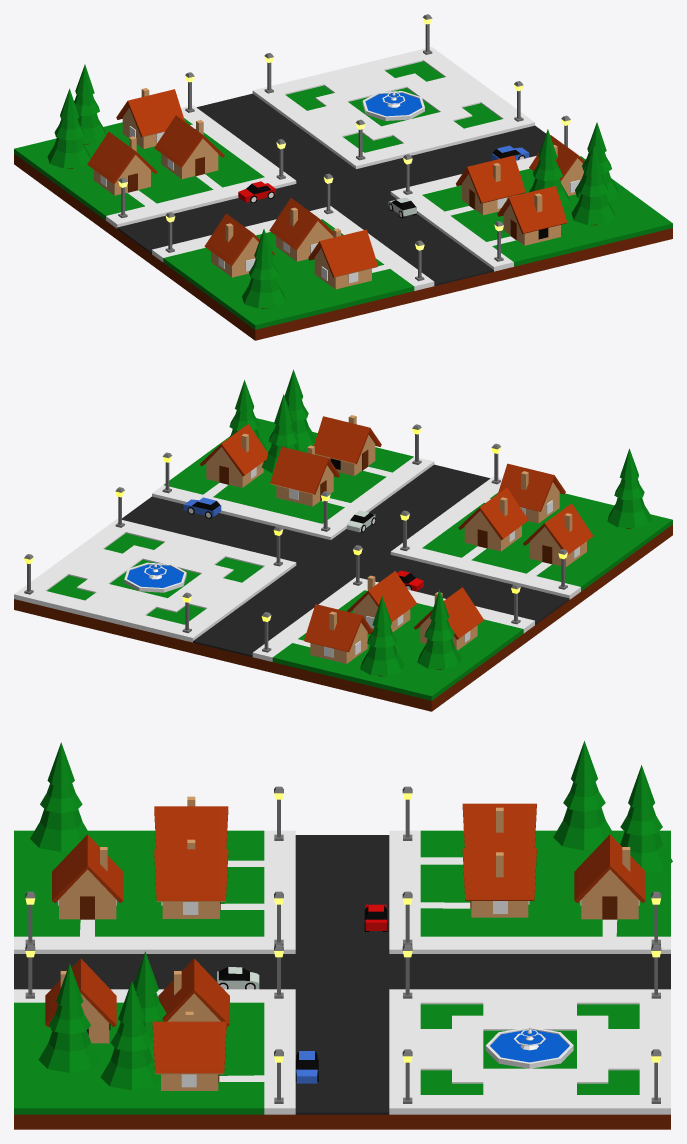
File: neighborhood_mockup_2_-_lowpoly.glb
3 renders of one model, top to bottom at view 1: azimuth 30°, elevation 25°; view 2: azimuth 150°, elevation 25°; view 3: azimuth 270°, elevation 25°, orthographic. The views are drawn at different scales.
Visible parts, largest first — view 1: Cube.006_3, Cube.010_9, Cube.002_4, Cube.008_6, Cube.001_2, Cube.007_7, Cube.012_11, Cube.009_8, Cube.011_10, Cylinder.002_14, Cylinder.004_16, Cylinder_12 (+6 smaller); view 2: Cube.006_3, Cube.001_2, Cube.012_11, Cube.002_4, Cube.009_8, Cube.003_5, Cube.011_10, Cube.010_9, Cube.008_6, Cylinder.002_14, Cylinder.001_13, Cylinder_12 (+6 smaller); view 3: Cube.006_3, Cube.003_5, Cube.009_8, Cube.008_6, Cube.012_11, Cube.010_9, Cylinder.004_16, Cylinder.005_17, Cylinder_12, Cylinder.002_14, Cube.007_7, Cube.011_10 (+8 smaller).
Part boxes in pixels (bbox=[...]): Cube.006_3: bbox=[14, 47, 672, 340]; Cube.010_9: bbox=[308, 228, 378, 289]; Cube.002_4: bbox=[497, 186, 567, 245]; Cube.008_6: bbox=[154, 115, 224, 179]; Cube.001_2: bbox=[456, 155, 525, 215]; Cube.007_7: bbox=[87, 132, 157, 195]; Cube.012_11: bbox=[116, 88, 184, 148]; Cube.009_8: bbox=[269, 198, 333, 261]; Cube.011_10: bbox=[204, 213, 274, 277]; Cylinder.002_14: bbox=[242, 229, 286, 308]; Cylinder.004_16: bbox=[571, 145, 615, 225]; Cylinder_12: bbox=[47, 88, 90, 168]; Cube.006_3: bbox=[14, 418, 672, 711]; Cube.001_2: bbox=[270, 445, 339, 506]; Cube.012_11: bbox=[304, 604, 372, 663]; Cube.002_4: bbox=[314, 415, 381, 475]; Cube.009_8: bbox=[458, 487, 528, 551]; Cube.003_5: bbox=[199, 424, 268, 487]; Cube.011_10: bbox=[523, 503, 593, 567]; Cube.010_9: bbox=[498, 463, 565, 523]; Cube.008_6: bbox=[346, 571, 416, 631]; Cylinder.002_14: bbox=[607, 448, 651, 528]; Cylinder.001_13: bbox=[360, 596, 404, 676]; Cylinder_12: bbox=[417, 589, 461, 669]; Cube.006_3: bbox=[14, 830, 670, 1129]; Cube.003_5: bbox=[152, 1011, 226, 1090]; Cube.009_8: bbox=[154, 839, 228, 918]; Cube.008_6: bbox=[462, 848, 536, 917]; Cube.012_11: bbox=[574, 834, 645, 919]; Cube.010_9: bbox=[52, 834, 123, 919]; Cylinder.004_16: bbox=[38, 963, 100, 1072]; Cylinder.005_17: bbox=[100, 981, 160, 1090]; Cylinder_12: bbox=[553, 741, 615, 850]; Cylinder.002_14: bbox=[30, 742, 92, 851]; Cube.007_7: bbox=[462, 803, 536, 848]; Cube.011_10: bbox=[154, 796, 228, 849].
Bounding box in the file's own units: 22.98 × 4.92 × 23.05.
